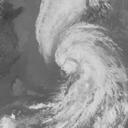cyclone: (42, 22, 117, 102)
